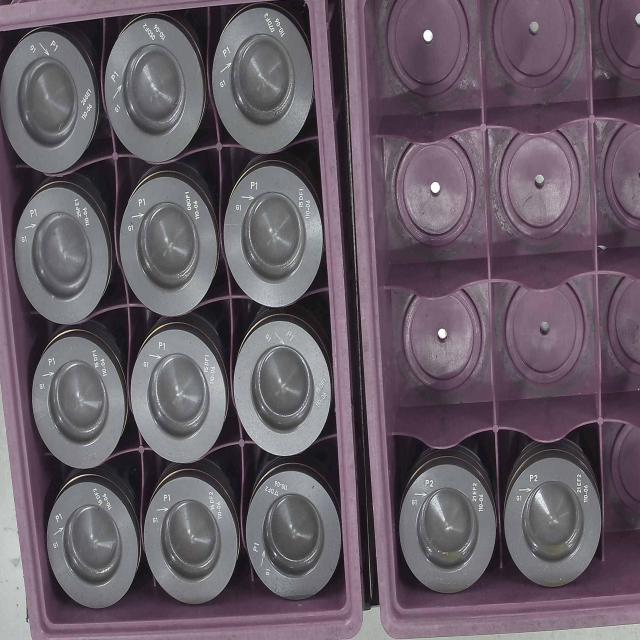P1: (214, 9, 322, 156), (105, 18, 210, 164), (9, 188, 116, 329), (233, 318, 336, 460), (2, 32, 104, 174), (123, 174, 218, 321), (223, 166, 322, 306), (36, 483, 141, 612), (133, 325, 228, 465), (30, 341, 131, 469), (146, 480, 240, 612), (247, 472, 341, 600)
P2: (396, 444, 498, 592), (504, 441, 602, 593)
